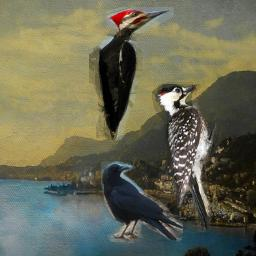Crow: (101, 160, 183, 244)
Woodpecker: (89, 7, 174, 140), (150, 82, 222, 232)
